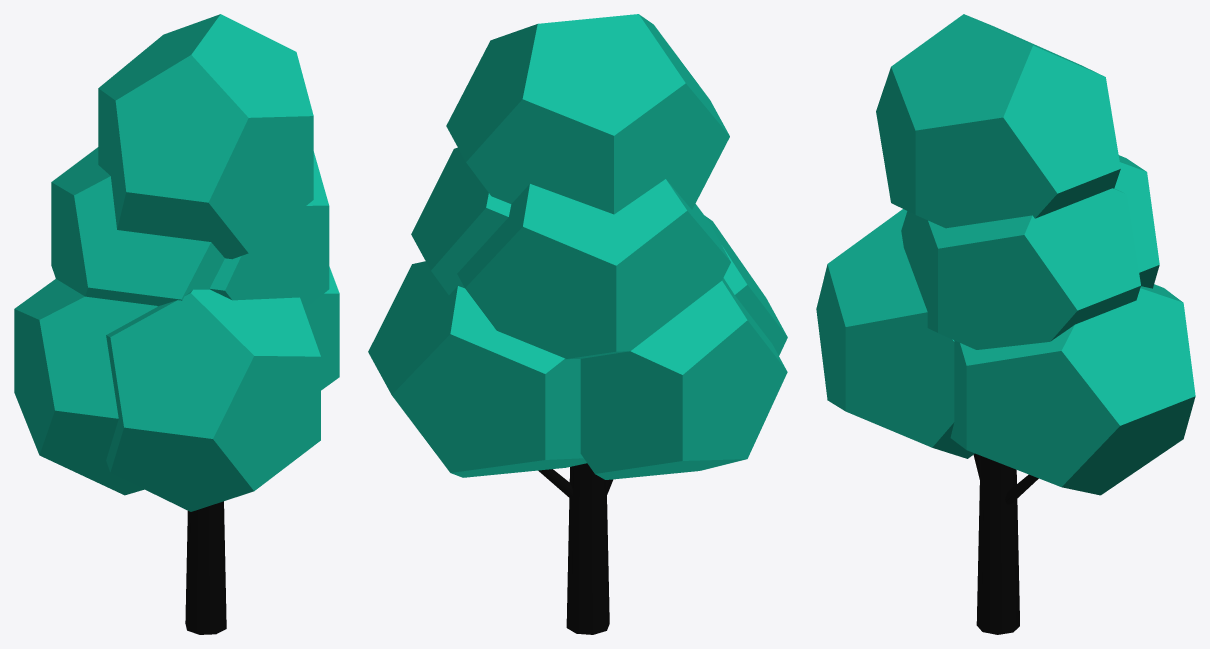
The model's file is simple-tree.gltf.
3 views of the same model, side by side, from view 1: azimuth 30°, elevation 25°; view 2: azimuth 150°, elevation 25°; view 3: azimuth 270°, elevation 25° (orthographic). The views are drawn at different scales.
Bounding box in the file's own units: 17.5 × 30.27 × 17.46.
